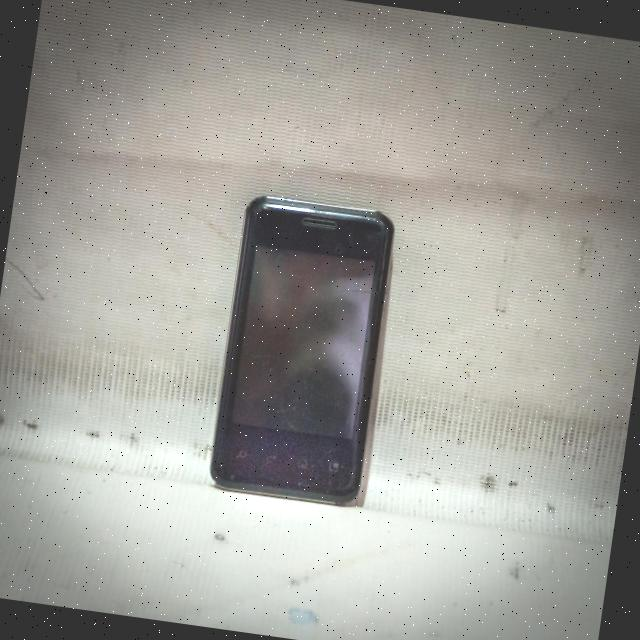Phone: (203, 194, 404, 514)
